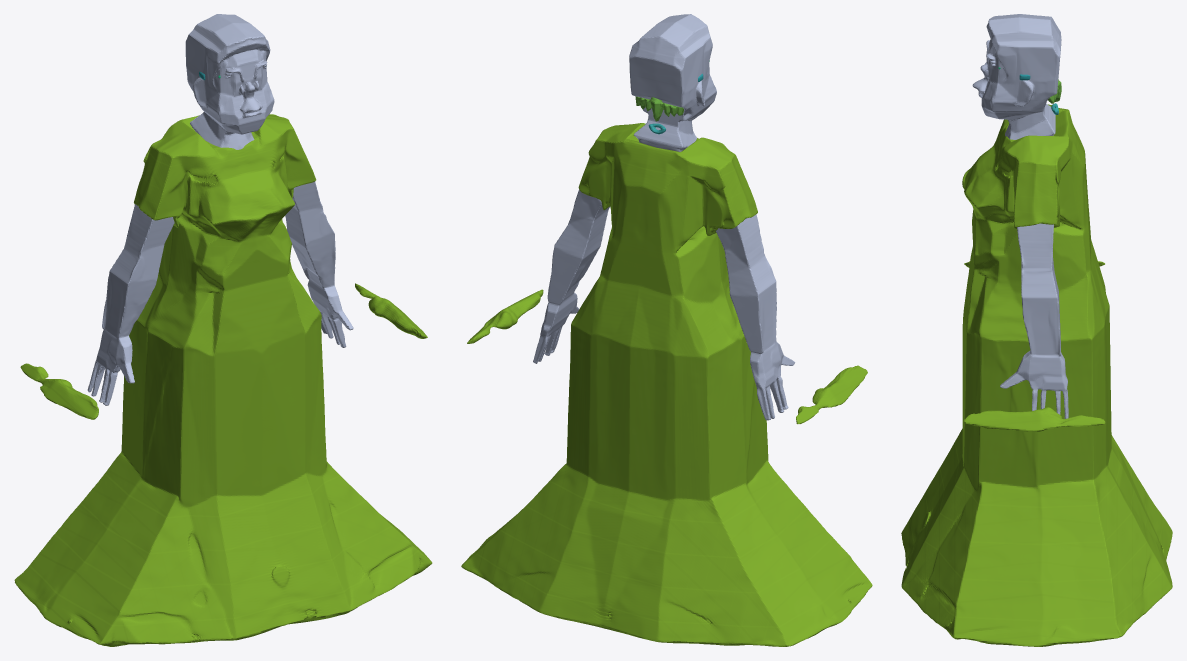
3 renders of one model, left to right at view 1: azimuth 30°, elevation 25°; view 2: azimuth 150°, elevation 25°; view 3: azimuth 270°, elevation 25°, orthographic. The views are drawn at different scales.
Parts seen in each view (by area): view 1: world; view 2: world; view 3: world.
Boxes of the visible parts, box(x1,y1,x2,y2) form: world: box(14, 14, 432, 646); world: box(461, 14, 872, 646); world: box(901, 14, 1172, 646).
Bounding box in the file's own units: 1.33 × 2 × 0.8983.
